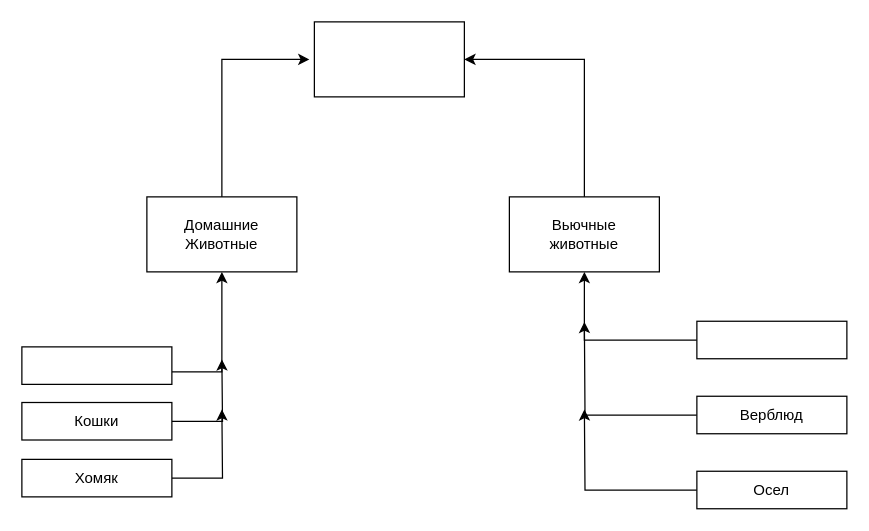
This 869x531 diagram has some shape labels left out. The centre of each missing label's shape, as x and y in pixels:
Животные: point (388, 59)
Лошадь: point (771, 339)
Собаки: point (96, 365)
